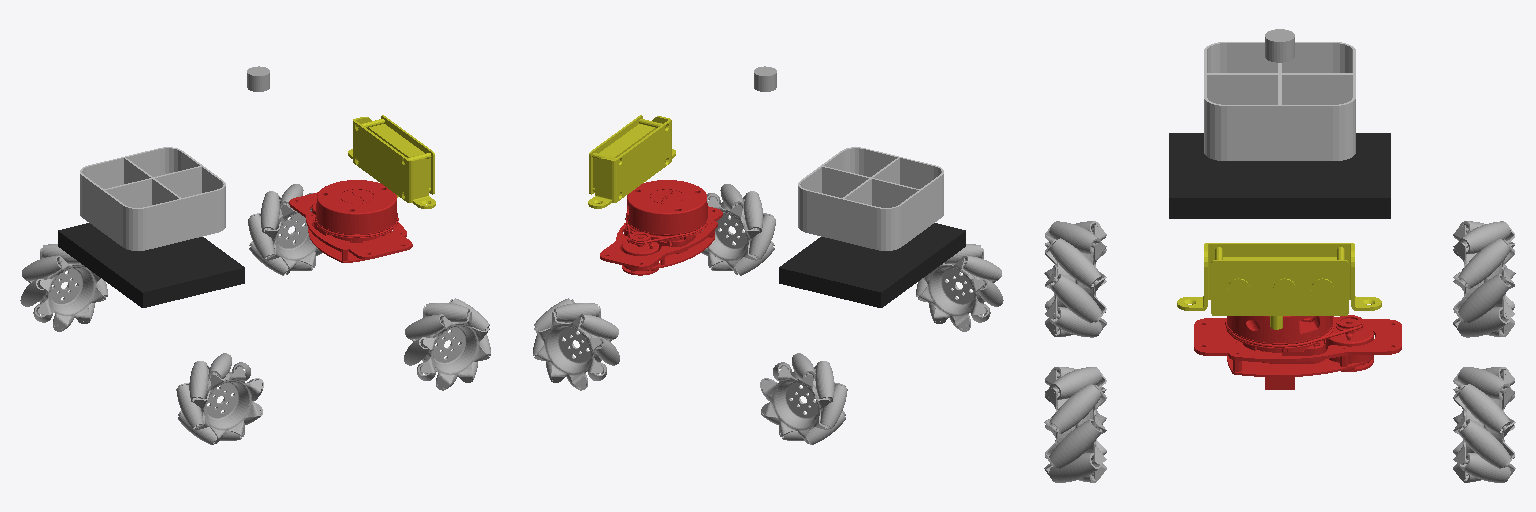
--- What the picture shows (computed from the rendered views, not written in the file) ---
3 views of the same robot in one strip: view 1: azimuth 30°, elevation 25°; view 2: azimuth 150°, elevation 25°; view 3: azimuth 270°, elevation 25° (orthographic).
Model oryxbot_base with 48 links and 47 joints (5 revolute, 42 fixed), rooted at base_footprint, posed every joint at zero.
Visible links, largest first — view 1: save_box_Link, control_panel_Link, laser_radar_Link, depth_camera_Link, wheel_2_Link, wheel_3_Link, wheel_4_Link, wheel_1_Link, roller_1_4_Link, roller_4_3_Link, roller_2_3_Link, roller_3_4_Link (+4 smaller); view 2: save_box_Link, control_panel_Link, laser_radar_Link, depth_camera_Link, wheel_1_Link, wheel_4_Link, wheel_3_Link, wheel_2_Link, roller_2_4_Link, roller_3_3_Link, roller_1_3_Link, roller_4_4_Link (+4 smaller); view 3: save_box_Link, control_panel_Link, depth_camera_Link, laser_radar_Link, wheel_1_Link, wheel_2_Link, wheel_3_Link, wheel_4_Link, roller_3_1_Link, roller_4_1_Link, roller_2_1_Link, roller_1_1_Link (+13 smaller).
Link boxes in pixels (left/top/right/bottom): save_box_Link: left=80, top=147, right=225, bottom=250; control_panel_Link: left=58, top=223, right=244, bottom=307; laser_radar_Link: left=289, top=180, right=412, bottom=262; depth_camera_Link: left=348, top=115, right=435, bottom=208; wheel_2_Link: left=405, top=299, right=489, bottom=388; wheel_3_Link: left=178, top=365, right=262, bottom=443; wheel_4_Link: left=22, top=248, right=105, bottom=329; wheel_1_Link: left=249, top=191, right=317, bottom=274; roller_1_4_Link: left=248, top=215, right=274, bottom=259; roller_4_3_Link: left=22, top=256, right=61, bottom=280; roller_2_3_Link: left=405, top=314, right=443, bottom=339; roller_3_4_Link: left=176, top=385, right=203, bottom=428; save_box_Link: left=798, top=147, right=943, bottom=250; control_panel_Link: left=779, top=223, right=965, bottom=307; laser_radar_Link: left=600, top=180, right=722, bottom=275; depth_camera_Link: left=588, top=115, right=675, bottom=208; wheel_1_Link: left=534, top=299, right=618, bottom=388; wheel_4_Link: left=761, top=365, right=845, bottom=443; wheel_3_Link: left=918, top=248, right=1001, bottom=329; wheel_2_Link: left=702, top=191, right=774, bottom=274; roller_2_4_Link: left=749, top=215, right=775, bottom=259; roller_3_3_Link: left=962, top=256, right=1001, bottom=280; roller_1_3_Link: left=580, top=314, right=618, bottom=339; roller_4_4_Link: left=820, top=385, right=847, bottom=428; save_box_Link: left=1204, top=42, right=1355, bottom=160; control_panel_Link: left=1169, top=133, right=1390, bottom=218; depth_camera_Link: left=1177, top=243, right=1381, bottom=329; laser_radar_Link: left=1194, top=315, right=1401, bottom=389; wheel_1_Link: left=1453, top=370, right=1515, bottom=479; wheel_2_Link: left=1044, top=370, right=1106, bottom=479; wheel_3_Link: left=1044, top=224, right=1106, bottom=334; wheel_4_Link: left=1453, top=224, right=1515, bottom=334; roller_3_1_Link: left=1049, top=238, right=1101, bottom=288; roller_4_1_Link: left=1458, top=238, right=1510, bottom=288; roller_2_1_Link: left=1049, top=384, right=1101, bottom=433; roller_1_1_Link: left=1458, top=384, right=1510, bottom=433.
Size in the robot's own frame: 0.3075 by 0.3088 by 0.2683 metres.
40 mesh visuals loaded from 46 distinct referenced files (40 binary STL); not drawn: 6 (reference not matched to a file when rendering).

URDF robot description (oryxbot_base):
<?xml version="1.0"?>
<robot xmlns:sensor="http://playerstage.sourceforge.net/gazebo/xmlschema/#sensor" xmlns:controller="http://playerstage.sourceforge.net/gazebo/xmlschema/#controller" xmlns:interface="http://playerstage.sourceforge.net/gazebo/xmlschema/#interface" xmlns:xacro="http://ros.org/wiki/xacro" name="oryxbot_base">
  <link name="base_footprint">
    <!-- <visual>
      <geometry>
        <box size="0.001 0.001 0.001"/>
      </geometry>
      <origin rpy="0 0 0" xyz="0 0 0.1"/>
    </visual>
    <inertial>
      <mass value="0.0001"/>
      <inertia ixx="1.0E-10" ixy="0.0" ixz="0.0" iyy="1.0E-10" iyz="0.0" izz="1.0E-10"/>
    </inertial> -->
  </link>
  <joint name="base_footprint_joint" type="fixed">
    <origin xyz="0 0 0.1"/>
    <parent link="base_footprint"/>
    <child link="base_link"/>
  </joint>
  <link name="base_link">
    <inertial>
      <origin xyz="-0.00764631169340118 -0.00117969395064395 -0.00183050219448137" rpy="0 0 0"/>
      <mass value="20.02553831087985"/>
      <inertia ixx="0.0136360660737575" ixy="-6.20950267617477E-05" ixz="0.000357631312376283" iyy="0.0207282662502369" iyz="0.000100277729999663" izz="0.0259054283159533"/>
    </inertial>
    <visual>
      <origin xyz="0 0 0" rpy="0 0 0"/>
      <geometry>
        <mesh filename="package://oryxbot_description/meshes/base/base_link.STL"/>
      </geometry>
      <material name="">
        <color rgba="0.2 0.2 0.2 1"/>
      </material>
    </visual>
    <collision>
      <origin xyz="0 0 0" rpy="0 0 0"/>
      <geometry>
        <mesh filename="package://oryxbot_description/meshes/base/base_link.STL"/>
      </geometry>
    </collision>
  </link>
  <link name="save_box_Link">
    <inertial>
      <origin xyz="-4.59354776438659E-15 9.15688820527724E-17 0.0147062883016232" rpy="0 0 0"/>
      <mass value="0.0971430373914802"/>
      <inertia ixx="0.000117289160482014" ixy="9.67216938625837E-20" ixz="-3.79126869778932E-18" iyy="0.000117289160482014" iyz="1.90433104035194E-20" izz="0.000201773217764548"/>
    </inertial>
    <visual>
      <origin xyz="0 0 0" rpy="0 0 0"/>
      <geometry>
        <mesh filename="package://oryxbot_description/meshes/base/save_box_Link.STL"/>
      </geometry>
      <material name="">
        <color rgba="0.8 0.8 0.8 1"/>
      </material>
    </visual>
    <collision>
      <origin xyz="0 0 0" rpy="0 0 0"/>
      <geometry>
        <mesh filename="package://oryxbot_description/meshes/base/save_box_Link.STL"/>
      </geometry>
    </collision>
  </link>
  <joint name="save_box_Joint" type="fixed">
    <origin xyz="-0.102321969925639 0 0.07925" rpy="-6.12303176911189E-17 0 0"/>
    <parent link="base_link"/>
    <child link="save_box_Link"/>
    <axis xyz="0 0 0"/>
  </joint>
  <link name="depth_camera_Link">
    <inertial>
      <origin xyz="-0.000338923518511336 0.00013633625480072 0.0130642403603556" rpy="0 0 0"/>
      <mass value="0.0429564094829856"/>
      <inertia ixx="4.42733827556727E-05" ixy="5.1756273672768E-08" ixz="-1.07581469445985E-07" iyy="9.87442464200886E-06" iyz="1.36662846267863E-09" izz="4.20179141036499E-05"/>
    </inertial>
    <visual>
      <origin xyz="0 0 0" rpy="0 0 0"/>
      <geometry>
        <mesh filename="package://oryxbot_description/meshes/base/depth_camera_Link.STL"/>
      </geometry>
      <material name="">
        <color rgba="0.8 0.8 0.2 1"/>
      </material>
    </visual>
    <collision>
      <origin xyz="0 0 0" rpy="0 0 0"/>
      <geometry>
        <mesh filename="package://oryxbot_description/meshes/base/depth_camera_Link.STL"/>
      </geometry>
    </collision>
  </link>
  <joint name="depth_camera_Joint" type="fixed">
    <origin xyz="0.137971242636892 0 0.0679000000000474" rpy="-6.12303176911189E-17 0 0"/>
    <parent link="base_link"/>
    <child link="depth_camera_Link"/>
    <axis xyz="0 0 0"/>
  </joint>
  <link name="laser_radar_Link">
    <inertial>
      <origin xyz="0.00129965485264849 0.0140721322674916 -0.00450819311932744" rpy="0 0 0"/>
      <mass value="0.0623789276094434"/>
      <inertia ixx="6.94639653669307E-05" ixy="8.6185609328867E-07" ixz="-1.9717605542125E-07" iyy="2.93424892981532E-05" iyz="6.39495406735705E-06" izz="7.78608897582073E-05"/>
    </inertial>
    <visual>
      <origin xyz="0 0 -0.02" rpy="0 0 0"/>
      <geometry>
        <mesh filename="package://oryxbot_description/meshes/base/laser_radar_Link.STL"/>
      </geometry>
      <material name="">
        <color rgba="0.8 0.2 0.2 1"/>
      </material>
    </visual>
    <collision>
      <origin xyz="0 0 0" rpy="0 0 0"/>
      <geometry>
        <mesh filename="package://oryxbot_description/meshes/base/laser_radar_Link.STL"/>
      </geometry>
    </collision>
  </link>
  <joint name="laser_radar_Joint" type="fixed">
    <origin xyz="0.10012092451104 0 0.05" rpy="-6.12303176911189E-17 0 0"/>
    <parent link="base_link"/>
    <child link="laser_radar_Link"/>
    <axis xyz="0 0 0"/>
  </joint>
  <link name="control_panel_Link">
    <inertial>
      <origin xyz="-1.38777878078145E-17 2.03505737914499E-17 0.0075" rpy="0 0 0"/>
      <mass value="0.22338"/>
      <inertia ixx="0.000400985715" ixy="-6.3306622132724E-20" ixz="-2.25875452601147E-21" iyy="0.000197858835" iyz="-8.99944309783044E-21" izz="0.0005904678"/>
    </inertial>
    <visual>
      <origin xyz="0 0 0" rpy="0 0 0"/>
      <geometry>
        <mesh filename="package://oryxbot_description/meshes/base/control_panel_Link.STL"/>
      </geometry>
      <material name="">
        <color rgba="0.2 0.2 0.2 1"/>
      </material>
    </visual>
    <collision>
      <origin xyz="0 0 0" rpy="0 0 0"/>
      <geometry>
        <mesh filename="package://oryxbot_description/meshes/base/control_panel_Link.STL"/>
      </geometry>
    </collision>
  </link>
  <joint name="control_panel_Joint" type="fixed">
    <origin xyz="-0.103733742636892 0 0.03725" rpy="-6.12303176911189E-17 0 0"/>
    <parent link="base_link"/>
    <child link="control_panel_Link"/>
    <axis xyz="0 0 0"/>
  </joint>
  <link name="wheel_1_Link">
    <inertial>
      <origin xyz="-3.49119389092545E-08 4.8702717014848E-07 -8.62702332904419E-08" rpy="0 0 0"/>
      <mass value="0.0115715789339179"/>
      <inertia ixx="4.48576917597745E-06" ixy="-1.24304480702996E-11" ixz="2.9583635995248E-11" iyy="6.65994842603994E-06" iyz="-5.89599770954395E-11" izz="4.48579119615739E-06"/>
    </inertial>
    <visual>
      <origin xyz="0 0 0" rpy="0 0 0"/>
      <geometry>
        <mesh filename="package://oryxbot_description/meshes/base/wheel_1_Link.STL"/>
      </geometry>
      <material name="">
        <color rgba="0.7 0.7 0.7 1"/>
      </material>
    </visual>
    <collision>
      <origin xyz="0 0 0" rpy="0 0 0"/>
      <geometry>
        <mesh filename="package://oryxbot_description/meshes/base/wheel_1_Link.STL"/>
      </geometry>
    </collision>
  </link>
  <joint name="wheel_1_Joint" type="fixed">
    <origin xyz="0.112733742636897 0.134000000000001 -0.0342499999999998" rpy="-6.12303176911189E-17 0 0"/>
    <parent link="base_link"/>
    <child link="wheel_1_Link"/>
    <axis xyz="0 0 0"/>
  </joint>
  <link name="roller_1_1_Link">
    <inertial>
      <origin xyz="-6.93889390390723E-17 0.000999807094442251 4.16333634234434E-17" rpy="0 0 0"/>
      <mass value="0.0041465555976513"/>
      <inertia ixx="4.31863836293642E-07" ixy="-2.50139417236036E-21" ixz="-4.80667813501109E-12" iyy="1.54352178276911E-07" iyz="2.47492439275866E-21" izz="4.31782290635005E-07"/>
    </inertial>
    <visual>
      <origin xyz="0 0 0" rpy="0 0 0"/>
      <geometry>
        <mesh filename="package://oryxbot_description/meshes/base/roller_1_1_Link.STL"/>
      </geometry>
      <material name="">
        <color rgba="0.7 0.7 0.7 1"/>
      </material>
    </visual>
  </link>
  <joint name="roller_1_1_Joint" type="fixed">
    <origin xyz="0.0207132034355986 -0.000707106781189015 0.0217132034356015" rpy="-0.529902789748729 -0.146975190663391 -0.529902789748729"/>
    <parent link="wheel_1_Link"/>
    <child link="roller_1_1_Link"/>
    <axis xyz="0 0 0"/>
  </joint>
  <link name="roller_1_2_Link">
    <inertial>
      <origin xyz="-1.38777878078145E-17 0.000999807094442251 -6.93889390390723E-18" rpy="0 0 0"/>
      <mass value="0.00414655559765128"/>
      <inertia ixx="4.31863836293638E-07" ixy="-1.2573145310806E-22" ixz="-4.80667813518606E-12" iyy="1.54352178276911E-07" iyz="3.46090947854882E-22" izz="4.31782290635005E-07"/>
    </inertial>
    <visual>
      <origin xyz="0 0 0" rpy="0 0 0"/>
      <geometry>
        <mesh filename="package://oryxbot_description/meshes/base/roller_1_2_Link.STL"/>
      </geometry>
      <material name="">
        <color rgba="0.7 0.7 0.7 1"/>
      </material>
    </visual>
  </link>
  <joint name="roller_1_2_Joint" type="fixed">
    <origin xyz="-0.000707106781188779 -0.000707106781188793 0.03" rpy="2.60208521396521E-16 0 -0.785398163397448"/>
    <parent link="wheel_1_Link"/>
    <child link="roller_1_2_Link"/>
    <axis xyz="0 0 0"/>
  </joint>
  <link name="roller_1_3_Link">
    <inertial>
      <origin xyz="-1.38777878078145E-17 0.000999807094442279 1.38777878078145E-17" rpy="0 0 0"/>
      <mass value="0.00414655559765127"/>
      <inertia ixx="4.31863836293635E-07" ixy="2.87858853168454E-22" ixz="-4.80667813510373E-12" iyy="1.54352178276911E-07" iyz="3.20946077670575E-22" izz="4.31782290635002E-07"/>
    </inertial>
    <visual>
      <origin xyz="0 0 0" rpy="0 0 0"/>
      <geometry>
        <mesh filename="package://oryxbot_description/meshes/base/roller_1_3_Link.STL"/>
      </geometry>
      <material name="">
        <color rgba="0.7 0.7 0.7 1"/>
      </material>
    </visual>
  </link>
  <joint name="roller_1_3_Joint" type="fixed">
    <origin xyz="-0.0217132034356014 -0.000707106781189043 0.0207132034355986" rpy="0.52990278974873 0.146975190663391 -0.529902789748729"/>
    <parent link="wheel_1_Link"/>
    <child link="roller_1_3_Link"/>
    <axis xyz="0 0 0"/>
  </joint>
  <link name="roller_1_4_Link">
    <inertial>
      <origin xyz="1.38777878078145E-17 0.000999807094442279 0" rpy="0 0 0"/>
      <mass value="0.00414655559765129"/>
      <inertia ixx="4.31863836293638E-07" ixy="1.11217018297169E-22" ixz="-4.80667813522289E-12" iyy="1.54352178276911E-07" iyz="3.30872245021211E-22" izz="4.31782290635005E-07"/>
    </inertial>
    <visual>
      <origin xyz="0 0 0" rpy="0 0 0"/>
      <geometry>
        <mesh filename="package://oryxbot_description/meshes/base/roller_1_4_Link.STL"/>
      </geometry>
      <material name=""><color rgba="0.7 0.7 0.7 1"/>&gt;
      </material>
    </visual>
  </link>
  <joint name="roller_1_4_Joint" type="fixed">
    <origin xyz="-0.03 -0.000707106781188765 -0.000707106781188793" rpy="0.785398163397448 0 0"/>
    <parent link="wheel_1_Link"/>
    <child link="roller_1_4_Link"/>
    <axis xyz="0 0 0"/>
  </joint>
  <link name="roller_1_5_Link">
    <inertial>
      <origin xyz="0 0.000999807094442251 -2.77555756156289E-17" rpy="0 0 0"/>
      <mass value="0.0041465555976513"/>
      <inertia ixx="4.3186383629364E-07" ixy="-2.9778502051909E-23" ixz="-4.80667813530226E-12" iyy="1.54352178276911E-07" iyz="7.51079996198149E-22" izz="4.31782290635006E-07"/>
    </inertial>
    <visual>
      <origin xyz="0 0 0" rpy="0 0 0"/>
      <geometry>
        <mesh filename="package://oryxbot_description/meshes/base/roller_1_5_Link.STL"/>
      </geometry>
      <material name="">
        <color rgba="0.7 0.7 0.7 1"/>
      </material>
    </visual>
  </link>
  <joint name="roller_1_5_Joint" type="fixed">
    <origin xyz="-0.0207132034355986 -0.000707106781189043 -0.0217132034356015" rpy="0.52990278974873 -0.146975190663391 0.529902789748729"/>
    <parent link="wheel_1_Link"/>
    <child link="roller_1_5_Link"/>
    <axis xyz="0 0 0"/>
  </joint>
  <link name="roller_1_6_Link">
    <inertial>
      <origin xyz="0 0.000999807094442196 1.38777878078145E-17" rpy="0 0 0"/>
      <mass value="0.00414655559765129"/>
      <inertia ixx="4.3186383629364E-07" ixy="-5.4924792673521E-22" ixz="-4.80667813516948E-12" iyy="1.54352178276911E-07" iyz="1.05435639738534E-22" izz="4.31782290635007E-07"/>
    </inertial>
    <visual>
      <origin xyz="0 0 0" rpy="0 0 0"/>
      <geometry>
        <mesh filename="package://oryxbot_description/meshes/base/roller_1_6_Link.STL"/>
      </geometry>
      <material name="">
        <color rgba="0.7 0.7 0.7 1"/>
      </material>
    </visual>
  </link>
  <joint name="roller_1_6_Joint" type="fixed">
    <origin xyz="0.000707106781188793 -0.000707106781188793 -0.03" rpy="0 0 0.785398163397448"/>
    <parent link="wheel_1_Link"/>
    <child link="roller_1_6_Link"/>
    <axis xyz="0 0 0"/>
  </joint>
  <link name="roller_1_7_Link">
    <inertial>
      <origin xyz="0 0.000999807094442209 -1.38777878078145E-17" rpy="0 0 0"/>
      <mass value="0.00414655559765128"/>
      <inertia ixx="4.31863836293635E-07" ixy="3.4410713482206E-22" ixz="-4.80667813504418E-12" iyy="1.54352178276911E-07" iyz="1.19114008207636E-22" izz="4.31782290635002E-07"/>
    </inertial>
    <visual>
      <origin xyz="0 0 0" rpy="0 0 0"/>
      <geometry>
        <mesh filename="package://oryxbot_description/meshes/base/roller_1_7_Link.STL"/>
      </geometry>
      <material name="">
        <color rgba="0.7 0.7 0.7 1"/>
      </material>
    </visual>
  </link>
  <joint name="roller_1_7_Joint" type="fixed">
    <origin xyz="0.0217132034356015 -0.000707106781189043 -0.0207132034355986" rpy="-0.529902789748728 0.14697519066339 0.529902789748728"/>
    <parent link="wheel_1_Link"/>
    <child link="roller_1_7_Link"/>
    <axis xyz="0 0 0"/>
  </joint>
  <link name="roller_1_8_Link">
    <inertial>
      <origin xyz="2.77555756156289E-17 0.000999807094442348 1.38777878078145E-17" rpy="0 0 0"/>
      <mass value="0.00414655559765128"/>
      <inertia ixx="4.31863836293639E-07" ixy="-8.22511969632861E-22" ixz="-4.8066781351909E-12" iyy="1.54352178276911E-07" iyz="-3.04402465419514E-22" izz="4.31782290635006E-07"/>
    </inertial>
    <visual>
      <origin xyz="0 0 0" rpy="0 0 0"/>
      <geometry>
        <mesh filename="package://oryxbot_description/meshes/base/roller_1_8_Link.STL"/>
      </geometry>
      <material name="">
        <color rgba="0.7 0.7 0.7 1"/>
      </material>
    </visual>
  </link>
  <joint name="roller_1_8_Joint" type="fixed">
    <origin xyz="0.03 -0.000707106781188821 0.000707106781188793" rpy="-0.785398163397448 0 0"/>
    <parent link="wheel_1_Link"/>
    <child link="roller_1_8_Link"/>
    <axis xyz="0 0 0"/>
  </joint>
  <link name="wheel_2_Link">
    <inertial>
      <origin xyz="9.94518354099916E-07 -3.47615774470844E-07 4.35441263609004E-07" rpy="0 0 0"/>
      <mass value="0.0115720932718038"/>
      <inertia ixx="4.48594023888562E-06" ixy="-1.27462413936796E-11" ixz="5.95427391893261E-11" iyy="6.66008980600592E-06" iyz="-5.04101581512295E-11" izz="4.48582634155502E-06"/>
    </inertial>
    <visual>
      <origin xyz="0 0 0" rpy="0 0 0"/>
      <geometry>
        <mesh filename="package://oryxbot_description/meshes/base/wheel_2_Link.STL"/>
      </geometry>
      <material name="">
        <color rgba="0.7 0.7 0.7 1"/>
      </material>
    </visual>
    <collision>
      <origin xyz="0 0 0" rpy="0 0 0"/>
      <geometry>
        <mesh filename="package://oryxbot_description/meshes/base/wheel_2_Link.STL"/>
      </geometry>
    </collision>
  </link>
  <joint name="wheel_2_Joint" type="fixed">
    <origin xyz="0.112733742636895 -0.133999999999999 -0.0342499999999961" rpy="-6.12303176911189E-17 0 0"/>
    <parent link="base_link"/>
    <child link="wheel_2_Link"/>
    <axis xyz="0 0 0"/>
  </joint>
  <link name="roller_2_1_Link">
    <inertial>
      <origin xyz="-1.38777878078145E-17 0.000999807094442307 0" rpy="0 0 0"/>
      <mass value="0.00414655559765128"/>
      <inertia ixx="4.31863836293637E-07" ixy="-4.46677530778635E-22" ixz="-4.80667813523608E-12" iyy="1.54352178276911E-07" iyz="-2.9778502051909E-23" izz="4.31782290635004E-07"/>
    </inertial>
    <visual>
      <origin xyz="0 0 0" rpy="0 0 0"/>
      <geometry>
        <mesh filename="package://oryxbot_description/meshes/base/roller_2_1_Link.STL"/>
      </geometry>
      <material name="">
        <color rgba="0.7 0.7 0.7 1"/>
      </material>
    </visual>
  </link>
  <joint name="roller_2_1_Joint" type="fixed">
    <origin xyz="0.0217132034356014 -0.000707106781189015 0.0207132034355986" rpy="0.52990278974873 -0.146975190663391 0.529902789748729"/>
    <parent link="wheel_2_Link"/>
    <child link="roller_2_1_Link"/>
    <axis xyz="0 0 0"/>
  </joint>
  <link name="roller_2_2_Link">
    <inertial>
      <origin xyz="1.38777878078145E-17 0.000999807094442251 -3.03576608295941E-17" rpy="0 0 0"/>
      <mass value="0.00414655559765128"/>
      <inertia ixx="4.31863836293636E-07" ixy="-4.56603698129271E-22" ixz="-4.80667813508966E-12" iyy="1.54352178276911E-07" iyz="-2.56064630237828E-22" izz="4.31782290635003E-07"/>
    </inertial>
    <visual>
      <origin xyz="0 0 0" rpy="0 0 0"/>
      <geometry>
        <mesh filename="package://oryxbot_description/meshes/base/roller_2_2_Link.STL"/>
      </geometry>
      <material name="">
        <color rgba="0.7 0.7 0.7 1"/>
      </material>
    </visual>
  </link>
  <joint name="roller_2_2_Joint" type="fixed">
    <origin xyz="0.000707106781188779 -0.000707106781188738 0.03" rpy="2.60208521396521E-16 0 0.785398163397448"/>
    <parent link="wheel_2_Link"/>
    <child link="roller_2_2_Link"/>
    <axis xyz="0 0 0"/>
  </joint>
  <link name="roller_2_3_Link">
    <inertial>
      <origin xyz="-1.38777878078145E-17 0.000999807094442251 0" rpy="0 0 0"/>
      <mass value="0.00414655559765129"/>
      <inertia ixx="4.31863836293639E-07" ixy="3.30872245021211E-22" ixz="-4.80667813500447E-12" iyy="1.54352178276911E-07" iyz="3.37489689921635E-22" izz="4.31782290635005E-07"/>
    </inertial>
    <visual>
      <origin xyz="0 0 0" rpy="0 0 0"/>
      <geometry>
        <mesh filename="package://oryxbot_description/meshes/base/roller_2_3_Link.STL"/>
      </geometry>
      <material name="">
        <color rgba="0.7 0.7 0.7 1"/>
      </material>
    </visual>
  </link>
  <joint name="roller_2_3_Joint" type="fixed">
    <origin xyz="-0.0207132034355986 -0.00070710678118896 0.0217132034356015" rpy="-0.529902789748729 0.14697519066339 0.529902789748728"/>
    <parent link="wheel_2_Link"/>
    <child link="roller_2_3_Link"/>
    <axis xyz="0 0 0"/>
  </joint>
  <link name="roller_2_4_Link">
    <inertial>
      <origin xyz="0 0.000999807094442223 -1.38777878078145E-17" rpy="0 0 0"/>
      <mass value="0.0041465555976513"/>
      <inertia ixx="4.31863836293639E-07" ixy="-2.11380593321028E-22" ixz="-4.80667813513264E-12" iyy="1.54352178276911E-07" iyz="2.77932685817817E-22" izz="4.31782290635005E-07"/>
    </inertial>
    <visual>
      <origin xyz="0 0 0" rpy="0 0 0"/>
      <geometry>
        <mesh filename="package://oryxbot_description/meshes/base/roller_2_4_Link.STL"/>
      </geometry>
      <material name="">
        <color rgba="0.7 0.7 0.7 1"/>
      </material>
    </visual>
  </link>
  <joint name="roller_2_4_Joint" type="fixed">
    <origin xyz="-0.03 -0.000707106781188821 0.000707106781188793" rpy="-0.785398163397448 0 0"/>
    <parent link="wheel_2_Link"/>
    <child link="roller_2_4_Link"/>
    <axis xyz="0 0 0"/>
  </joint>
  <link name="roller_2_5_Link">
    <inertial>
      <origin xyz="-5.55111512312578E-17 0.000999807094442334 1.38777878078145E-17" rpy="0 0 0"/>
      <mass value="0.00414655559765128"/>
      <inertia ixx="4.31863836293638E-07" ixy="-9.92616735063633E-24" ixz="-4.80667813514344E-12" iyy="1.54352178276911E-07" iyz="9.03281228907906E-22" izz="4.31782290635004E-07"/>
    </inertial>
    <visual>
      <origin xyz="0 0 0" rpy="0 0 0"/>
      <geometry>
        <mesh filename="package://oryxbot_description/meshes/base/roller_2_5_Link.STL"/>
      </geometry>
      <material name="">
        <color rgba="0.7 0.7 0.7 1"/>
      </material>
    </visual>
  </link>
  <joint name="rolle_2r_5_Joint" type="fixed">
    <origin xyz="-0.0217132034356014 -0.000707106781188988 -0.0207132034355986" rpy="-0.52990278974873 -0.146975190663391 -0.529902789748729"/>
    <parent link="wheel_2_Link"/>
    <child link="roller_2_5_Link"/>
    <axis xyz="0 0 0"/>
  </joint>
  <link name="roller_2_6_Link">
    <inertial>
      <origin xyz="2.77555756156289E-17 0.000999807094442348 -1.38777878078145E-17" rpy="0 0 0"/>
      <mass value="0.00414655559765126"/>
      <inertia ixx="4.31863836293635E-07" ixy="4.36751363427999E-22" ixz="-4.80667813509319E-12" iyy="1.5435217827691E-07" iyz="2.36116847928058E-22" izz="4.31782290635003E-07"/>
    </inertial>
    <visual>
      <origin xyz="0 0 0" rpy="0 0 0"/>
      <geometry>
        <mesh filename="package://oryxbot_description/meshes/base/roller_2_6_Link.STL"/>
      </geometry>
      <material name="">
        <color rgba="0.7 0.7 0.7 1"/>
      </material>
    </visual>
  </link>
  <joint name="roller_2_6_Joint" type="fixed">
    <origin xyz="-0.000707106781188765 -0.000707106781188738 -0.03" rpy="0 0 -0.785398163397448"/>
    <parent link="wheel_2_Link"/>
    <child link="roller_2_6_Link"/>
    <axis xyz="0 0 0"/>
  </joint>
  <link name="roller_2_7_Link">
    <inertial>
      <origin xyz="-2.77555756156289E-17 0.000999807094442307 -2.77555756156289E-17" rpy="0 0 0"/>
      <mass value="0.00414655559765127"/>
      <inertia ixx="4.31863836293635E-07" ixy="-3.01093742969302E-22" ixz="-4.80667813497139E-12" iyy="1.54352178276911E-07" iyz="-4.30133918527574E-22" izz="4.31782290635001E-07"/>
    </inertial>
    <visual>
      <origin xyz="0 0 0" rpy="0 0 0"/>
      <geometry>
        <mesh filename="package://oryxbot_description/meshes/base/roller_2_7_Link.STL"/>
      </geometry>
      <material name="">
        <color rgba="0.7 0.7 0.7 1"/>
      </material>
    </visual>
  </link>
  <joint name="roller_2_7_Joint" type="fixed">
    <origin xyz="0.0207132034355986 -0.000707106781189015 -0.0217132034356015" rpy="0.52990278974873 0.146975190663391 -0.529902789748729"/>
    <parent link="wheel_2_Link"/>
    <child link="roller_2_7_Link"/>
    <axis xyz="0 0 0"/>
  </joint>
  <link name="roller_2_8_Link">
    <inertial>
      <origin xyz="2.77555756156289E-17 0.000999807094442279 -2.77555756156289E-17" rpy="0 0 0"/>
      <mass value="0.00414655559765126"/>
      <inertia ixx="4.31863836293635E-07" ixy="5.53160878773498E-23" ixz="-4.80667813492758E-12" iyy="1.5435217827691E-07" iyz="-5.9557004103818E-22" izz="4.31782290635001E-07"/>
    </inertial>
    <visual>
      <origin xyz="0 0 0" rpy="0 0 0"/>
      <geometry>
        <mesh filename="package://oryxbot_description/meshes/base/roller_2_8_Link.STL"/>
      </geometry>
      <material name="">
        <color rgba="0.7 0.7 0.7 1"/>
      </material>
    </visual>
  </link>
  <joint name="roller_2_8_Joint" type="fixed">
    <origin xyz="0.03 -0.000707106781188765 -0.000707106781188793" rpy="0.785398163397448 0 0"/>
    <parent link="wheel_2_Link"/>
    <child link="roller_2_8_Link"/>
    <axis xyz="0 0 0"/>
  </joint>
  <link name="wheel_3_Link">
    <inertial>
      <origin xyz="-3.50725403996943E-08 4.87027175366528E-07 -8.61096328685917E-08" rpy="0 0 0"/>
      <mass value="0.0115715788043825"/>
      <inertia ixx="4.48576910692246E-06" ixy="-1.24408844764669E-11" ixz="2.95581559339796E-11" iyy="6.65994836338677E-06" iyz="-5.89704116223101E-11" izz="4.48579112710188E-06"/>
    </inertial>
    <visual>
      <origin xyz="0 0 0" rpy="0 0 0"/>
      <geometry>
        <mesh filename="package://oryxbot_description/meshes/base/wheel_3_Link.STL"/>
      </geometry>
      <material name="">
        <color rgba="0.7 0.7 0.7 1"/>
      </material>
    </visual>
    <collision>
      <origin xyz="0 0 0" rpy="0 0 0"/>
      <geometry>
        <mesh filename="package://oryxbot_description/meshes/base/wheel_3_Link.STL"/>
      </geometry>
    </collision>
  </link>
  <joint name="wheel_3_joint" type="fixed">
    <origin xyz="-0.112733742636892 -0.134 -0.0342499999999999" rpy="-6.12303176911189E-17 0 0"/>
    <parent link="base_link"/>
    <child link="wheel_3_Link"/>
    <axis xyz="0 0 0"/>
  </joint>
  <link name="roller_3_1_Link">
    <inertial>
      <origin xyz="-5.55111512312578E-17 0.000999807094442307 5.55111512312578E-17" rpy="0 0 0"/>
      <mass value="0.00414655559765128"/>
      <inertia ixx="4.31863836293639E-07" ixy="-1.43267682094184E-21" ixz="-4.80667813487874E-12" iyy="1.54352178276911E-07" iyz="2.22346148654254E-21" izz="4.31782290635002E-07"/>
    </inertial>
    <visual>
      <origin xyz="0 0 0" rpy="0 0 0"/>
      <geometry>
        <mesh filename="package://oryxbot_description/meshes/base/roller_3_1_Link.STL"/>
      </geometry>
      <material name="">
        <color rgba="0.7 0.7 0.7 1"/>
      </material>
    </visual>
  </link>
  <joint name="roller_3_1_Joint" type="fixed">
    <origin xyz="0.0207132034355986 -0.000707106781189043 0.0217132034356015" rpy="-0.529902789748729 -0.146975190663392 -0.52990278974873"/>
    <parent link="wheel_3_Link"/>
    <child link="roller_3_1_Link"/>
    <axis xyz="0 0 0"/>
  </joint>
  <link name="roller_3_2_Link">
    <inertial>
      <origin xyz="0 0.000999807094442307 1.04083408558608E-17" rpy="0 0 0"/>
      <mass value="0.00414655559765128"/>
      <inertia ixx="4.31863836293635E-07" ixy="3.97046694025453E-23" ixz="-4.80667813502386E-12" iyy="1.54352178276911E-07" iyz="7.50061846387807E-22" izz="4.31782290635002E-07"/>
    </inertial>
    <visual>
      <origin xyz="0 0 0" rpy="0 0 0"/>
      <geometry>
        <mesh filename="package://oryxbot_description/meshes/base/roller_3_2_Link.STL"/>
      </geometry>
      <material name="">
        <color rgba="0.7 0.7 0.7 1"/>
      </material>
    </visual>
  </link>
  <joint name="roller_3_2_Joint" type="fixed">
    <origin xyz="-0.000707106781188752 -0.000707106781188793 0.03" rpy="2.60208521396521E-16 0 -0.785398163397448"/>
    <parent link="wheel_3_Link"/>
    <child link="roller_3_2_Link"/>
    <axis xyz="0 0 0"/>
  </joint>
  <link name="roller_3_3_Link">
    <inertial>
      <origin xyz="-1.38777878078145E-17 0.000999807094442307 2.77555756156289E-17" rpy="0 0 0"/>
      <mass value="0.00414655559765129"/>
      <inertia ixx="4.31863836293638E-07" ixy="-1.15805285757424E-22" ixz="-4.80667813526917E-12" iyy="1.54352178276911E-07" iyz="3.01093742969302E-22" izz="4.31782290635004E-07"/>
    </inertial>
    <visual>
      <origin xyz="0 0 0" rpy="0 0 0"/>
      <geometry>
        <mesh filename="package://oryxbot_description/meshes/base/roller_3_3_Link.STL"/>
      </geometry>
      <material name="">
        <color rgba="0.7 0.7 0.7 1"/>
      </material>
    </visual>
  </link>
  <joint name="roller_3_3_Joint" type="fixed">
    <origin xyz="-0.0217132034356014 -0.000707106781189015 0.0207132034355986" rpy="0.52990278974873 0.146975190663391 -0.529902789748729"/>
    <parent link="wheel_3_Link"/>
    <child link="roller_3_3_Link"/>
    <axis xyz="0 0 0"/>
  </joint>
  <link name="roller_3_4_Link">
    <inertial>
      <origin xyz="-5.55111512312578E-17 0.000999807094442307 -1.38777878078145E-17" rpy="0 0 0"/>
      <mass value="0.00414655559765126"/>
      <inertia ixx="4.31863836293633E-07" ixy="-9.24894957481905E-22" ixz="-4.8066781350104E-12" iyy="1.5435217827691E-07" iyz="-5.29395592033938E-23" izz="4.31782290635001E-07"/>
    </inertial>
    <visual>
      <origin xyz="0 0 0" rpy="0 0 0"/>
      <geometry>
        <mesh filename="package://oryxbot_description/meshes/base/roller_3_4_Link.STL"/>
      </geometry>
      <material name="">
        <color rgba="0.7 0.7 0.7 1"/>
      </material>
    </visual>
  </link>
  <joint name="roller_3_4_Joint" type="fixed">
    <origin xyz="-0.03 -0.000707106781188765 -0.000707106781188786" rpy="0.785398163397448 0 0"/>
    <parent link="wheel_3_Link"/>
    <child link="roller_3_4_Link"/>
    <axis xyz="0 0 0"/>
  </joint>
  <link name="roller_3_5_Link">
    <inertial>
      <origin xyz="0 0.000999807094442307 -1.38777878078145E-17" rpy="0 0 0"/>
      <mass value="0.00414655559765126"/>
      <inertia ixx="4.31863836293633E-07" ixy="0" ixz="-4.8066781350905E-12" iyy="1.5435217827691E-07" iyz="-4.66529865479908E-22" izz="4.31782290635E-07"/>
    </inertial>
    <visual>
      <origin xyz="0 0 0" rpy="0 0 0"/>
      <geometry>
        <mesh filename="package://oryxbot_description/meshes/base/roller_3_5_Link.STL"/>
      </geometry>
      <material name="">
        <color rgba="0.7 0.7 0.7 1"/>
      </material>
    </visual>
  </link>
  <joint name="roller_3_5_Joint" type="fixed">
    <origin xyz="-0.0207132034355986 -0.000707106781189071 -0.0217132034356015" rpy="0.52990278974873 -0.146975190663391 0.529902789748729"/>
    <parent link="wheel_3_Link"/>
    <child link="roller_3_5_Link"/>
    <axis xyz="0 0 0"/>
  </joint>
  <link name="roller_3_6_Link">
    <inertial>
      <origin xyz="0 0.000999807094442251 -1.38777878078145E-17" rpy="0 0 0"/>
      <mass value="0.00414655559765125"/>
      <inertia ixx="4.31863836293632E-07" ixy="9.26442286059391E-23" ixz="-4.80667813529233E-12" iyy="1.5435217827691E-07" iyz="4.40853339160952E-24" izz="4.31782290634999E-07"/>
    </inertial>
    <visual>
      <origin xyz="0 0 0" rpy="0 0 0"/>
      <geometry>
        <mesh filename="package://oryxbot_description/meshes/base/roller_3_6_Link.STL"/>
      </geometry>
      <material name="">
        <color rgba="0.7 0.7 0.7 1"/>
      </material>
    </visual>
  </link>
  <joint name="roller_3_6_Joint" type="fixed">
    <origin xyz="0.000707106781188779 -0.000707106781188821 -0.03" rpy="0 0 0.785398163397448"/>
    <parent link="wheel_3_Link"/>
    <child link="roller_3_6_Link"/>
    <axis xyz="0 0 0"/>
  </joint>
  <link name="roller_3_7_Link">
    <inertial>
      <origin xyz="0 0.000999807094442293 -2.77555756156289E-17" rpy="0 0 0"/>
      <mass value="0.00414655559765126"/>
      <inertia ixx="4.31863836293633E-07" ixy="-1.32348898008484E-23" ixz="-4.80667813530226E-12" iyy="1.54352178276911E-07" iyz="-9.92616735063633E-24" izz="4.31782290635E-07"/>
    </inertial>
    <visual>
      <origin xyz="0 0 0" rpy="0 0 0"/>
      <geometry>
        <mesh filename="package://oryxbot_description/meshes/base/roller_3_7_Link.STL"/>
      </geometry>
      <material name="">
        <color rgba="0.7 0.7 0.7 1"/>
      </material>
    </visual>
  </link>
  <joint name="roller_3_7_Joint" type="fixed">
    <origin xyz="0.0217132034356014 -0.000707106781189099 -0.0207132034355986" rpy="-0.529902789748729 0.146975190663391 0.529902789748729"/>
    <parent link="wheel_3_Link"/>
    <child link="roller_3_7_Link"/>
    <axis xyz="0 0 0"/>
  </joint>
  <link name="roller_3_8_Link">
    <inertial>
      <origin xyz="0 0.000999807094442293 -2.77555756156289E-17" rpy="0 0 0"/>
      <mass value="0.00414655559765128"/>
      <inertia ixx="4.31863836293638E-07" ixy="-2.15950685426026E-22" ixz="-4.80667813528115E-12" iyy="1.54352178276911E-07" iyz="-4.63221143029696E-23" izz="4.31782290635004E-07"/>
    </inertial>
    <visual>
      <origin xyz="0 0 0" rpy="0 0 0"/>
      <geometry>
        <mesh filename="package://oryxbot_description/meshes/base/roller_3_8_Link.STL"/>
      </geometry>
      <material name="">
        <color rgba="0.7 0.7 0.7 1"/>
      </material>
    </visual>
  </link>
  <joint name="roller_3_8_Joint" type="fixed">
    <origin xyz="0.03 -0.000707106781188849 0.0007071067811888" rpy="-0.785398163397448 0 0"/>
    <parent link="wheel_3_Link"/>
    <child link="roller_3_8_Link"/>
    <axis xyz="0 0 0"/>
  </joint>
  <link name="wheel_4_Link">
    <inertial>
      <origin xyz="9.94520553007638E-07 -3.47612766071759E-07 4.3543573170074E-07" rpy="0 0 0"/>
      <mass value="0.0115720932681644"/>
      <inertia ixx="4.48594023806637E-06" ixy="-1.27450695041583E-11" ixz="5.95422171159268E-11" iyy="6.66008980442039E-06" iyz="-5.04102490053183E-11" izz="4.4858263393441E-06"/>
    </inertial>
    <visual>
      <origin xyz="0 0 0" rpy="0 0 0"/>
      <geometry>
        <mesh filename="package://oryxbot_description/meshes/base/wheel_4_Link.STL"/>
      </geometry>
      <material name="">
        <color rgba="0.7 0.7 0.7 1"/>
      </material>
    </visual>
    <collision>
      <origin xyz="0 0 0" rpy="0 0 0"/>
      <geometry>
        <mesh filename="package://oryxbot_description/meshes/base/wheel_4_Link.STL"/>
      </geometry>
    </collision>
  </link>
  <joint name="wheel_4_Joint" type="fixed">
    <origin xyz="-0.112733742636892 0.134 -0.03425" rpy="-6.12303176911189E-17 0 0"/>
    <parent link="base_link"/>
    <child link="wheel_4_Link"/>
    <axis xyz="0 0 0"/>
  </joint>
  <link name="roller_4_1_Link">
    <inertial>
      <origin xyz="0 0.000999807094442251 -1.38777878078145E-17" rpy="0 0 0"/>
      <mass value="0.00414655559765127"/>
      <inertia ixx="4.31863836293637E-07" ixy="0" ixz="-4.80667813523608E-12" iyy="1.5435217827691E-07" iyz="9.26442286059391E-23" izz="4.31782290635003E-07"/>
    </inertial>
    <visual>
      <origin xyz="0 0 0" rpy="0 0 0"/>
      <geometry>
        <mesh filename="package://oryxbot_description/meshes/base/roller_4_1_Link.STL"/>
      </geometry>
      <material name="">
        <color rgba="0.7 0.7 0.7 1"/>
      </material>
    </visual>
  </link>
  <joint name="roller_4_1_Joint" type="fixed">
    <origin xyz="0.0217132034356014 -0.000707106781189015 0.0207132034355986" rpy="0.52990278974873 -0.146975190663391 0.529902789748729"/>
    <parent link="wheel_4_Link"/>
    <child link="roller_4_1_Link"/>
    <axis xyz="0 0 0"/>
  </joint>
  <link name="roller_4_2_Link">
    <inertial>
      <origin xyz="1.38777878078145E-17 0.000999807094442307 -4.33680868994202E-18" rpy="0 0 0"/>
      <mass value="0.00414655559765127"/>
      <inertia ixx="4.31863836293636E-07" ixy="-7.27918939046664E-23" ixz="-4.80667813522998E-12" iyy="1.5435217827691E-07" iyz="3.46758589237963E-22" izz="4.31782290635003E-07"/>
    </inertial>
    <visual>
      <origin xyz="0 0 0" rpy="0 0 0"/>
      <geometry>
        <mesh filename="package://oryxbot_description/meshes/base/roller_4_2_Link.STL"/>
      </geometry>
      <material name="">
        <color rgba="0.7 0.7 0.7 1"/>
      </material>
    </visual>
  </link>
  <joint name="roller_4_2_Joint" type="fixed">
    <origin xyz="0.000707106781188779 -0.000707106781188765 0.03" rpy="2.60208521396521E-16 0 0.785398163397448"/>
    <parent link="wheel_4_Link"/>
    <child link="roller_4_2_Link"/>
    <axis xyz="0 0 0"/>
  </joint>
  <link name="roller_4_3_Link">
    <inertial>
      <origin xyz="2.08166817117217E-16 0.00099980709444264 -1.66533453693773E-16" rpy="0 0 0"/>
      <mass value="0.0041465555976511"/>
      <inertia ixx="4.31863836293611E-07" ixy="8.31481951738303E-21" ixz="-4.80667813757866E-12" iyy="1.54352178276906E-07" iyz="-6.11782781044219E-21" izz="4.31782290634976E-07"/>
    </inertial>
    <visual>
      <origin xyz="0 0 0" rpy="0 0 0"/>
      <geometry>
        <mesh filename="package://oryxbot_description/meshes/base/roller_4_3_Link.STL"/>
      </geometry>
      <material name="">
        <color rgba="0.7 0.7 0.7 1"/>
      </material>
    </visual>
  </link>
  <joint name="roller_4_3_Joint" type="fixed">
    <origin xyz="-0.0207132034355986 -0.00070710678118896 0.0217132034356014" rpy="-0.529902789748729 0.14697519066339 0.529902789748728"/>
    <parent link="wheel_4_Link"/>
    <child link="roller_4_3_Link"/>
    <axis xyz="0 0 0"/>
  </joint>
  <link name="roller_4_4_Link">
    <inertial>
      <origin xyz="0 0.00099980709444232 0" rpy="0 0 0"/>
      <mass value="0.00414655559765128"/>
      <inertia ixx="4.31863836293637E-07" ixy="4.95383443897663E-23" ixz="-4.80667813508523E-12" iyy="1.54352178276911E-07" iyz="8.60267837055149E-22" izz="4.31782290635004E-07"/>
    </inertial>
    <visual>
      <origin xyz="0 0 0" rpy="0 0 0"/>
      <geometry>
        <mesh filename="package://oryxbot_description/meshes/base/roller_4_4_Link.STL"/>
      </geometry>
      <material name="">
        <color rgba="0.7 0.7 0.7 1"/>
      </material>
    </visual>
  </link>
  <joint name="roller_4_4_Joint" type="fixed">
    <origin xyz="-0.03 -0.000707106781188765 0.000707106781188793" rpy="-0.785398163397448 0 0"/>
    <parent link="wheel_4_Link"/>
    <child link="roller_4_4_Link"/>
    <axis xyz="0 0 0"/>
  </joint>
  <link name="roller_4_5_Link">
    <inertial>
      <origin xyz="0 0.000999807094442307 0" rpy="0 0 0"/>
      <mass value="0.00414655559765124"/>
      <inertia ixx="4.31863836293631E-07" ixy="1.09187840857E-22" ixz="-4.80667813518314E-12" iyy="1.5435217827691E-07" iyz="-7.2130149414624E-22" izz="4.31782290634998E-07"/>
    </inertial>
    <visual>
      <origin xyz="0 0 0" rpy="0 0 0"/>
      <geometry>
        <mesh filename="package://oryxbot_description/meshes/base/roller_4_5_Link.STL"/>
      </geometry>
      <material name="">
        <color rgba="0.7 0.7 0.7 1"/>
      </material>
    </visual>
  </link>
  <joint name="roller_4_5_Joint" type="fixed">
    <origin xyz="-0.0217132034356014 -0.000707106781189015 -0.0207132034355986" rpy="-0.52990278974873 -0.146975190663391 -0.529902789748729"/>
    <parent link="wheel_4_Link"/>
    <child link="roller_4_5_Link"/>
    <axis xyz="0 0 0"/>
  </joint>
  <link name="roller_4_6_Link">
    <inertial>
      <origin xyz="-2.77555756156289E-17 0.000999807094442334 0" rpy="0 0 0"/>
      <mass value="0.00414655559765127"/>
      <inertia ixx="4.31863836293637E-07" ixy="-4.89690922631392E-22" ixz="-4.80667813524086E-12" iyy="1.5435217827691E-07" iyz="-1.79756282968646E-22" izz="4.31782290635004E-07"/>
    </inertial>
    <visual>
      <origin xyz="0 0 0" rpy="0 0 0"/>
      <geometry>
        <mesh filename="package://oryxbot_description/meshes/base/roller_4_6_Link.STL"/>
      </geometry>
      <material name="">
        <color rgba="0.7 0.7 0.7 1"/>
      </material>
    </visual>
  </link>
  <joint name="roller_4_6_Joint" type="fixed">
    <origin xyz="-0.000707106781188779 -0.000707106781188793 -0.03" rpy="0 0 -0.785398163397448"/>
    <parent link="wheel_4_Link"/>
    <child link="roller_4_6_Link"/>
    <axis xyz="0 0 0"/>
  </joint>
  <link name="roller_4_7_Link">
    <inertial>
      <origin xyz="0 0.000999807094442265 -2.77555756156289E-17" rpy="0 0 0"/>
      <mass value="0.00414655559765126"/>
      <inertia ixx="4.31863836293635E-07" ixy="7.94093388050907E-23" ixz="-4.80667813518976E-12" iyy="1.5435217827691E-07" iyz="2.31610571514848E-23" izz="4.31782290635001E-07"/>
    </inertial>
    <visual>
      <origin xyz="0 0 0" rpy="0 0 0"/>
      <geometry>
        <mesh filename="package://oryxbot_description/meshes/base/roller_4_7_Link.STL"/>
      </geometry>
      <material name="">
        <color rgba="0.7 0.7 0.7 1"/>
      </material>
    </visual>
  </link>
  <joint name="roller_4_7_Joint" type="fixed">
    <origin xyz="0.0207132034355986 -0.000707106781189015 -0.0217132034356014" rpy="0.52990278974873 0.146975190663391 -0.529902789748729"/>
    <parent link="wheel_4_Link"/>
    <child link="roller_4_7_Link"/>
    <axis xyz="0 0 0"/>
  </joint>
  <link name="roller_4_8_Link">
    <inertial>
      <origin xyz="0 0.000999807094442265 1.38777878078145E-17" rpy="0 0 0"/>
      <mass value="0.00414655559765128"/>
      <inertia ixx="4.31863836293638E-07" ixy="-9.13897251964715E-24" ixz="-4.80667813522517E-12" iyy="1.54352178276911E-07" iyz="4.2351647362715E-22" izz="4.31782290635004E-07"/>
    </inertial>
    <visual>
      <origin xyz="0 0 0" rpy="0 0 0"/>
      <geometry>
        <mesh filename="package://oryxbot_description/meshes/base/roller_4_8_Link.STL"/>
      </geometry>
      <material name="">
        <color rgba="0.7 0.7 0.7 1"/>
      </material>
    </visual>
  </link>
  <joint name="roller_4_8_Joint" type="fixed">
    <origin xyz="0.03 -0.000707106781188821 -0.000707106781188849" rpy="0.785398163397448 0 0"/>
    <parent link="wheel_4_Link"/>
    <child link="roller_4_8_Link"/>
    <axis xyz="0 0 0"/>
  </joint>
  <!-- base arm joint -->
  <joint name="base_arm_joint" type="fixed">
    <origin xyz="0.05 0 0.06" rpy="0 0 1.57079632"/>
    <parent link="base_link"/>
    <child link="arm_base_link"/>
    <axis xyz="1 0 0"/>
  </joint>
  <link name="arm_base_link">
    <inertial>
      <origin xyz="0 0 0" rpy="0 0 0"/>
      <mass value="1"/>
      <inertia ixx="1" ixy="0" ixz="0" iyy="1" iyz="0" izz="1"/>
    </inertial>
    <visual>
      <origin xyz="0 0 0" rpy="0 0 0"/>
      <geometry>
        <mesh filename="package://oryxbot_description/meshes/arm/base_link.STL"/>
      </geometry>
      <material name="White"/>
    </visual>
    <collision>
      <origin xyz="0 0 0" rpy="0 0 0"/>
      <geometry>
        <mesh filename="package://oryxbot_description/meshes/arm/base_link.STL"/>
      </geometry>
    </collision>
  </link>
  <joint name="joint_1" type="revolute">
    <origin xyz="0 0 0.024" rpy="0 0 0"/>
    <parent link="arm_base_link"/>
    <child link="link_1"/>
    <axis xyz="0 0 1"/>
    <limit effort="150.0" lower="-3.14159265" upper="3.14159265" velocity="3.15"/>
  </joint>
  <link name="link_1">
    <inertial>
      <origin xyz="0 0 0" rpy="0 0 0"/>
      <mass value="0.1"/>
      <inertia ixx="1" ixy="0" ixz="0" iyy="1" iyz="0" izz="1"/>
    </inertial>
    <visual>
      <origin xyz="0 0 0" rpy="0 0 0"/>
      <geometry>
        <mesh filename="package://oryxbot_description/meshes/arm/link_1.STL"/>
      </geometry>
      <!--material name="White"/-->
    </visual>
    <collision>
      <origin xyz="0 0 0" rpy="0 0 0"/>
      <geometry>
        <mesh filename="package://oryxbot_description/meshes/arm/link_1.STL"/>
      </geometry>
    </collision>
  </link>
  <joint name="joint_2" type="revolute">
    <origin xyz="-0.01175 0 0.114" rpy="1.570796325 0 -1.570796325"/>
    <parent link="link_1"/>
    <child link="link_2"/>
    <axis xyz="0 0 1"/>
    <limit effort="150.0" lower="0" upper="1.570796325" velocity="3.15"/>
  </joint>
  <link name="link_2">
    <inertial>
      <origin xyz="0 0 0" rpy="0 0 0"/>
      <mass value="0.1"/>
      <inertia ixx="1" ixy="0" ixz="0" iyy="1" iyz="0" izz="1"/>
    </inertial>
    <visual>
      <origin xyz="0 0 0" rpy="0 0 0"/>
      <geometry>
        <mesh filename="package://oryxbot_description/meshes/arm/link_2.STL"/>
      </geometry>
      <!--material name="Black"/-->
    </visual>
    <collision>
      <origin xyz="0 0 0" rpy="0 0 0"/>
      <geometry>
        <mesh filename="package://oryxbot_description/meshes/arm/link_2.STL"/>
      </geometry>
    </collision>
  </link>
  <joint name="joint_5" type="revolute">
    <origin xyz="0.02699 0.13228 -0.01175" rpy="0 3.14159265 0"/>
    <parent link="link_2"/>
    <child link="link_5"/>
    <axis xyz="0 0 1"/>
    <limit effort="150.0" lower="0" upper="1.570796325" velocity="3.15"/>
  </joint>
  <link name="link_5">
    <inertial>
      <origin xyz="0 0 0" rpy="0 0 0"/>
      <mass value="0.1"/>
      <inertia ixx="1" ixy="0" ixz="0" iyy="1" iyz="0" izz="1"/>
    </inertial>
    <visual>
      <origin xyz="0 0 0" rpy="0 0 0"/>
      <geometry>
        <mesh filename="package://oryxbot_description/meshes/arm/link_5.STL"/>
      </geometry>
      <!-- material name="White"/-->
    </visual>
    <collision>
      <origin xyz="0 0 0" rpy="0 0 0"/>
      <geometry>
        <mesh filename="package://oryxbot_description/meshes/arm/link_5.STL"/>
      </geometry>
    </collision>
  </link>
  <joint name="joint_6" type="revolute">
    <origin xyz="0.07431 -0.12684 0.0" rpy="0 3.14159265 0"/>
    <parent link="link_5"/>
    <child link="link_6"/>
    <axis xyz="0 0 1"/>
    <limit effort="150.0" lower="-3.14159265" upper="3.14159265" velocity="3.15"/>
  </joint>
  <link name="link_6">
    <inertial>
      <origin xyz="0 0 0" rpy="0 0 0"/>
      <mass value="0.1"/>
      <inertia ixx="1" ixy="0" ixz="0" iyy="1" iyz="0" izz="1"/>
    </inertial>
    <visual>
      <origin xyz="0 0 0" rpy="0 0 0"/>
      <geometry>
        <mesh filename="package://oryxbot_description/meshes/arm/link_6.STL"/>
      </geometry>
      <material name="Grey"/>
    </visual>
    <collision>
      <origin xyz="0 0 0" rpy="0 0 0"/>
      <geometry>
        <mesh filename="package://oryxbot_description/meshes/arm/link_6.STL"/>
      </geometry>
    </collision>
  </link>
  <!-- Grasping frame -->
  <joint name="tool_joint" type="revolute">
    <parent link="link_6"/>
    <child link="tool_link"/>
    <origin xyz="0 0 0" rpy="1.57079632 0 0"/>
    <limit lower="-3.14159" upper="3.14159" effort="0.1" velocity="0.005"/>
    <axis xyz="0 0 1"/>
  </joint>
  <link name="tool_link">
    <inertial>
      <origin xyz="0 0 0" rpy="0 0 0"/>
      <mass value="0.1"/>
      <inertia ixx="1" ixy="0" ixz="0" iyy="1" iyz="0" izz="1"/>
    </inertial>
    <visual>
      <origin xyz="0 0 0.015" rpy="0 0 0"/>
      <geometry>
        <cylinder radius="0.01" length="0.015"/>
      </geometry>
    </visual>
    <collision>
      <origin xyz="0 0 0.015" rpy="0 0 0"/>
      <geometry>
        <cylinder radius="0.0175" length="0.015"/>
      </geometry>
    </collision>
  </link>
  <gazebo reference="base_link">
    <material>Gazebo/Grey</material>
  </gazebo>
  <gazebo reference="link_1">
    <material>Gazebo/Black</material>
  </gazebo>
  <gazebo reference="link_2">
    <material>Gazebo/Grey</material>
  </gazebo>
  <gazebo reference="link_5">
    <material>Gazebo/Red</material>
  </gazebo>
  <gazebo reference="link_6">
    <material>Gazebo/Black</material>
  </gazebo>
  <gazebo reference="tool_link">
    <material>Gazebo/Grey</material>
  </gazebo>
  <!-- Transmissions for ROS Control -->
  <transmission name="joint_1_trans">
    <type>transmission_interface/SimpleTransmission</type>
    <joint name="joint_1">
      <hardwareInterface>hardware_interface/PositionJointInterface</hardwareInterface>
    </joint>
    <actuator name="joint_1_motor">
      <hardwareInterface>hardware_interface/PositionJointInterface</hardwareInterface>
      <mechanicalReduction>1</mechanicalReduction>
    </actuator>
  </transmission>
  <transmission name="joint_2_trans">
    <type>transmission_interface/SimpleTransmission</type>
    <joint name="joint_2">
      <hardwareInterface>hardware_interface/PositionJointInterface</hardwareInterface>
    </joint>
    <actuator name="joint_2_motor">
      <hardwareInterface>hardware_interface/PositionJointInterface</hardwareInterface>
      <mechanicalReduction>1</mechanicalReduction>
    </actuator>
  </transmission>
  <transmission name="joint_5_trans">
    <type>transmission_interface/SimpleTransmission</type>
    <joint name="joint_5">
      <hardwareInterface>hardware_interface/PositionJointInterface</hardwareInterface>
    </joint>
    <actuator name="joint_5_motor">
      <hardwareInterface>hardware_interface/PositionJointInterface</hardwareInterface>
      <mechanicalReduction>1</mechanicalReduction>
    </actuator>
  </transmission>
  <transmission name="joint_6_trans">
    <type>transmission_interface/SimpleTransmission</type>
    <joint name="joint_6">
      <hardwareInterface>hardware_interface/PositionJointInterface</hardwareInterface>
    </joint>
    <actuator name="joint_6_motor">
      <hardwareInterface>hardware_interface/PositionJointInterface</hardwareInterface>
      <mechanicalReduction>1</mechanicalReduction>
    </actuator>
  </transmission>
  <transmission name="tool_joint_trans">
    <type>transmission_interface/SimpleTransmission</type>
    <joint name="tool_joint">
      <hardwareInterface>hardware_interface/PositionJointInterface</hardwareInterface>
    </joint>
    <actuator name="tool_joint_motor">
      <hardwareInterface>hardware_interface/PositionJointInterface</hardwareInterface>
      <mechanicalReduction>1</mechanicalReduction>
    </actuator>
  </transmission>


  <gazebo>
    <plugin name="gazebo_ros_control" filename="libgazebo_ros_control.so">
      <robotNamespace>/oryxbot_arm</robotNamespace>
    </plugin>
  </gazebo>
  <gazebo reference="base_link">
    <material>Gazebo/Black</material>
  </gazebo>
  <gazebo reference="save_box_Link">
    <material>Gazebo/White</material>
  </gazebo>
  <gazebo reference="depth_camera_Link">
    <material>Gazebo/Yellow</material>
  </gazebo>
  <gazebo reference="laser_radar_Link">
    <material>Gazebo/Red</material>
  </gazebo>
  <gazebo reference="screen_Link">
    <material>Gazebo/Blue</material>
  </gazebo>
  <gazebo reference="control_box_Link">
    <material>Gazebo/Black</material>
  </gazebo>


  <gazebo reference="laser_radar_Link">
    <sensor type="ray" name="rplidar_sensor">
      <pose>0 0 0 0 0 0</pose>
      <visualize>true</visualize>
      <update_rate>10</update_rate>
      <ray>
        <scan>
          <horizontal>
            <samples>1400</samples>
            <resolution>1</resolution>
            <!--min_angle>-1.570796</min_angle>
            <max_angle>1.570796</max_angle-->
            <min_angle>-1</min_angle>
            <max_angle>1</max_angle>
          </horizontal>
        </scan>
        <range>
          <min>0.05</min>
          <max>15.0</max>
          <resolution>0.002</resolution>
        </range>
        <noise>
          <type>gaussian</type>
          <!-- Noise parameters based on published spec for Hokuyo laser
               achieving "+-30mm" accuracy at range < 10m.  A mean of 0.0m and
               stddev of 0.01m will put 99.7% of samples within 0.03m of the true
               reading. -->
          <mean>0.0</mean>
          <stddev>0.01</stddev>
        </noise>
      </ray>
      <plugin name="gazebo_ros_head_hokuyo_controller" filename="libgazebo_ros_laser.so">
        <topicName>/scan</topicName>
        <frameName>laser_radar_Link</frameName>
      </plugin>
    </sensor>
  </gazebo>

  
  <gazebo reference="depth_camera_Link">
    <sensor type="depth" name="kinect_camera">
      <always_on>true</always_on>
      <update_rate>20.0</update_rate>
      <camera>
        <horizontal_fov>1.0472</horizontal_fov>
        <image>
          <format>R8G8B8</format>
          <width>640</width>
          <height>480</height>
        </image>
        <clip>
          <near>0.5</near>
          <far>8.0</far>
        </clip>
      </camera>


      <plugin name="kinect_camera_controller" filename="libgazebo_ros_openni_kinect.so">
        <cameraName>kinect_camera</cameraName>
        <alwaysOn>true</alwaysOn>
        <updateRate>10</updateRate>
        <imageTopicName>rgb/image_raw</imageTopicName>
        <depthImageTopicName>depth/image_raw</depthImageTopicName>
        <pointCloudTopicName>depth/points</pointCloudTopicName>
        <cameraInfoTopicName>rgb/camera_info</cameraInfoTopicName>
        <depthImageCameraInfoTopicName>depth/camera_info</depthImageCameraInfoTopicName>
        <frameName>kinect_frame_optical</frameName>
        <baseline>0.1</baseline>
        <distortion_k1>0.0</distortion_k1>
        <distortion_k2>0.0</distortion_k2>
        <distortion_k3>0.0</distortion_k3>
        <distortion_t1>0.0</distortion_t1>
        <distortion_t2>0.0</distortion_t2>
        <pointCloudCutoff>0.4</pointCloudCutoff>
      </plugin>
    </sensor>
  </gazebo>

  <!-- <gazebo>
    <plugin name="base_controller" filename="libgazebo_ros_planar_move.so">
      <commandTopic>cmd_vel</commandTopic>
      <odometryTopic>odom</odometryTopic>
      <odometryFrame>odom</odometryFrame>
      <odometryRate>20.0</odometryRate>
      <robotBaseFrame>base_footprint</robotBaseFrame>
    </plugin>
  </gazebo> -->

      <!-- 麦轮控制器 -->
    <gazebo>
        <plugin name="mecanum_controller" filename="libgazebo_ros_planar_move.so">
            <commandTopic>cmd_vel</commandTopic>
            <odometryTopic>odom</odometryTopic>
            <odometryFrame>odom</odometryFrame>
            <!-- <leftFrontJoint>LeftFrontwheelToBase</leftFrontJoint>
            <rightFrontJoint>RightFrontwheelToBase</rightFrontJoint>
            <leftRearJoint>LeftBackwheelToBase</leftRearJoint>
            <rightRearJoint>RightBackwheelToBase</rightRearJoint> -->
            <odometryRate>100</odometryRate>
            <robotBaseFrame>base_footprint</robotBaseFrame>
            <broadcastTF>1</broadcastTF>
        </plugin>
    </gazebo>



</robot>
